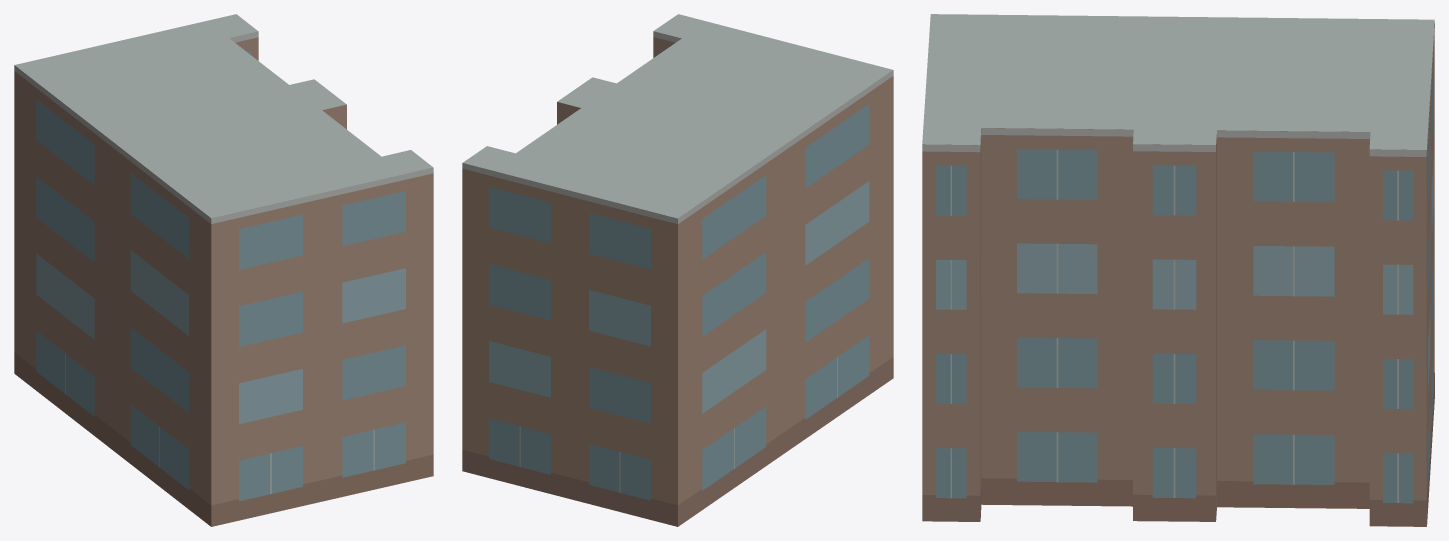
Rendered from survey-upis-32965059.glb.
The picture shows the model from 3 angles, left to right: view 1: azimuth 30°, elevation 25°; view 2: azimuth 150°, elevation 25°; view 3: azimuth 270°, elevation 25°; orthographic projection. The views are drawn at different scales.
Parts seen in each view (by area): view 1: survey-upis-32965059.tmp; view 2: survey-upis-32965059.tmp; view 3: survey-upis-32965059.tmp.
Part boxes in pixels (x1,y1,x2,y2): survey-upis-32965059.tmp: (14, 14, 433, 526); survey-upis-32965059.tmp: (462, 14, 893, 526); survey-upis-32965059.tmp: (922, 14, 1434, 526).
Size of the model in its own units: 10.11 by 13.05 by 16.1.
